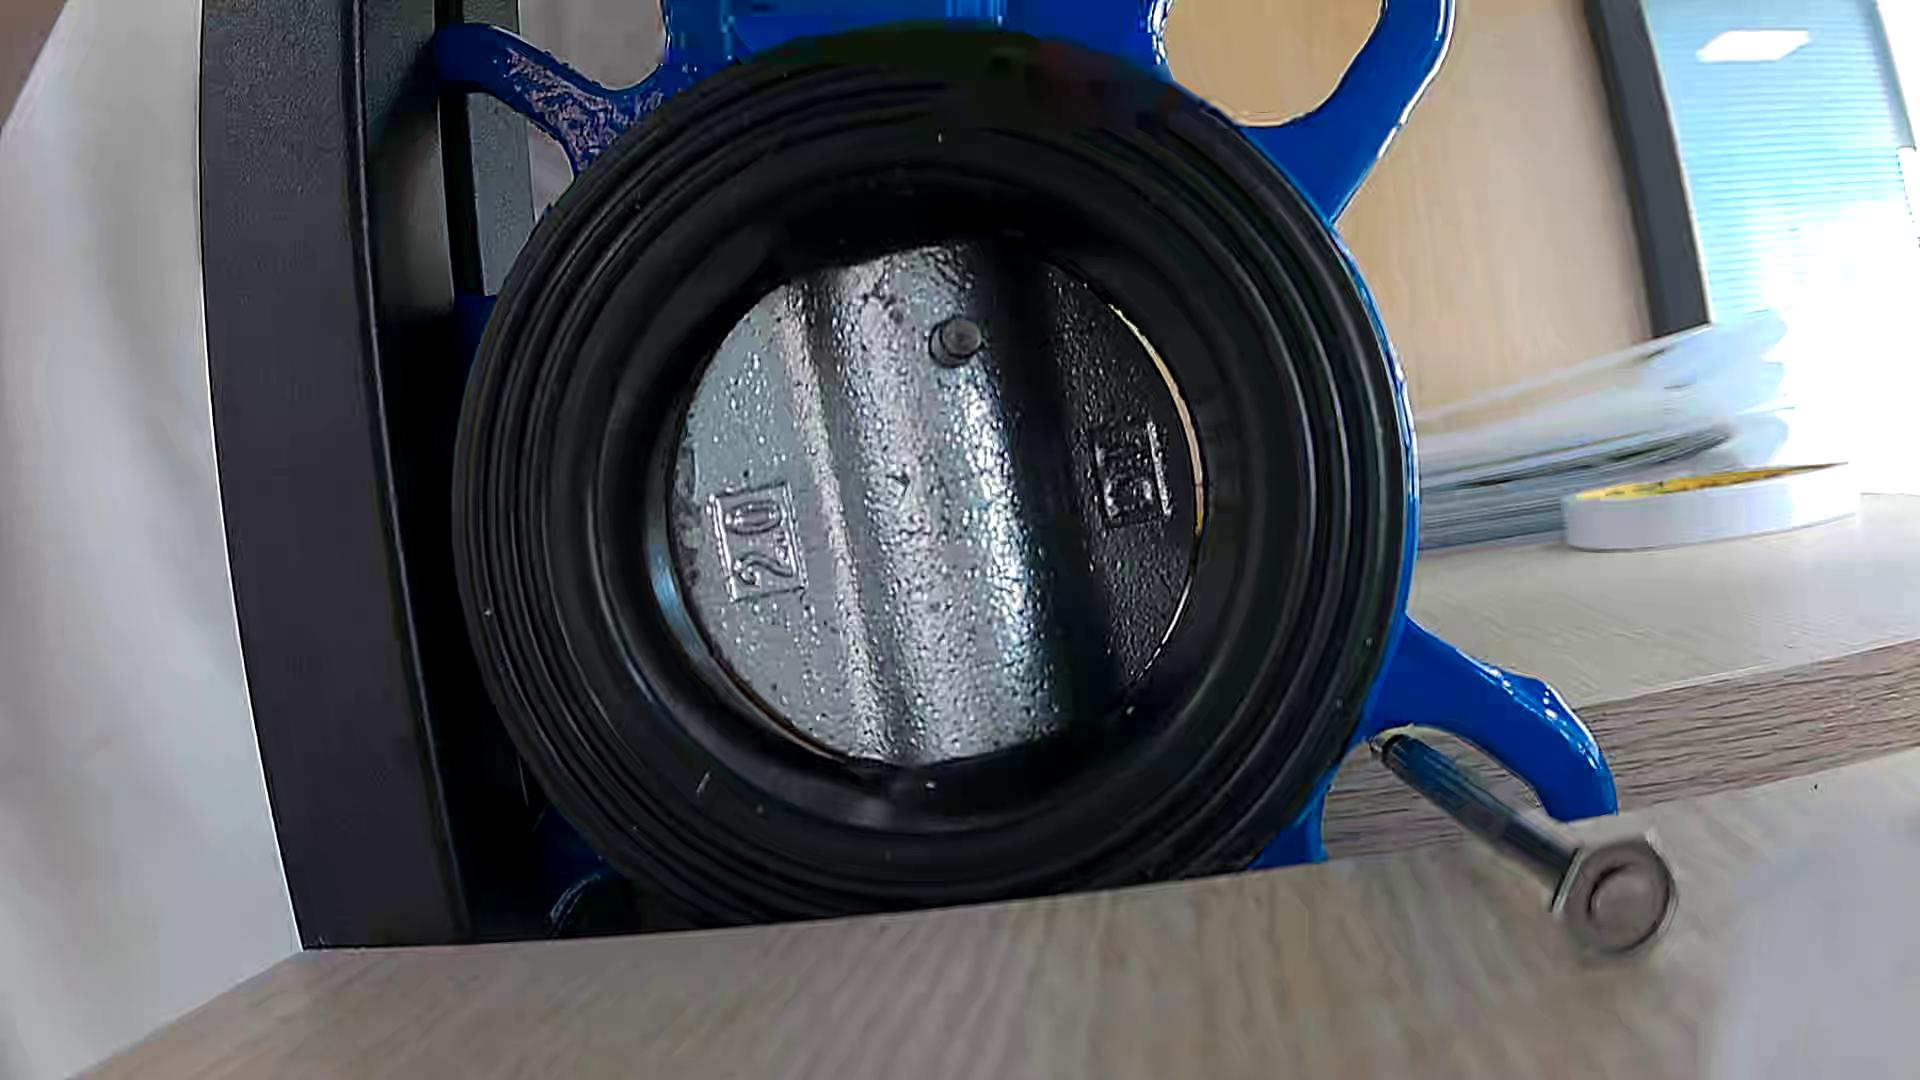valve: (671, 236, 1197, 769)
